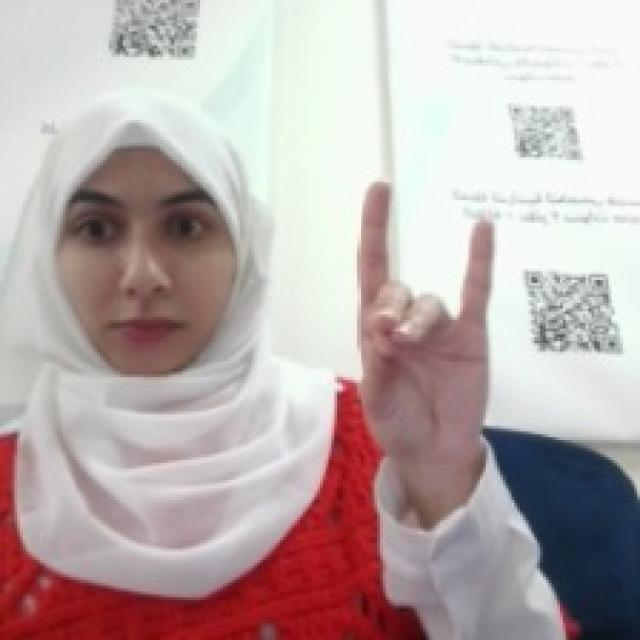Dog: (348, 171, 503, 463)
